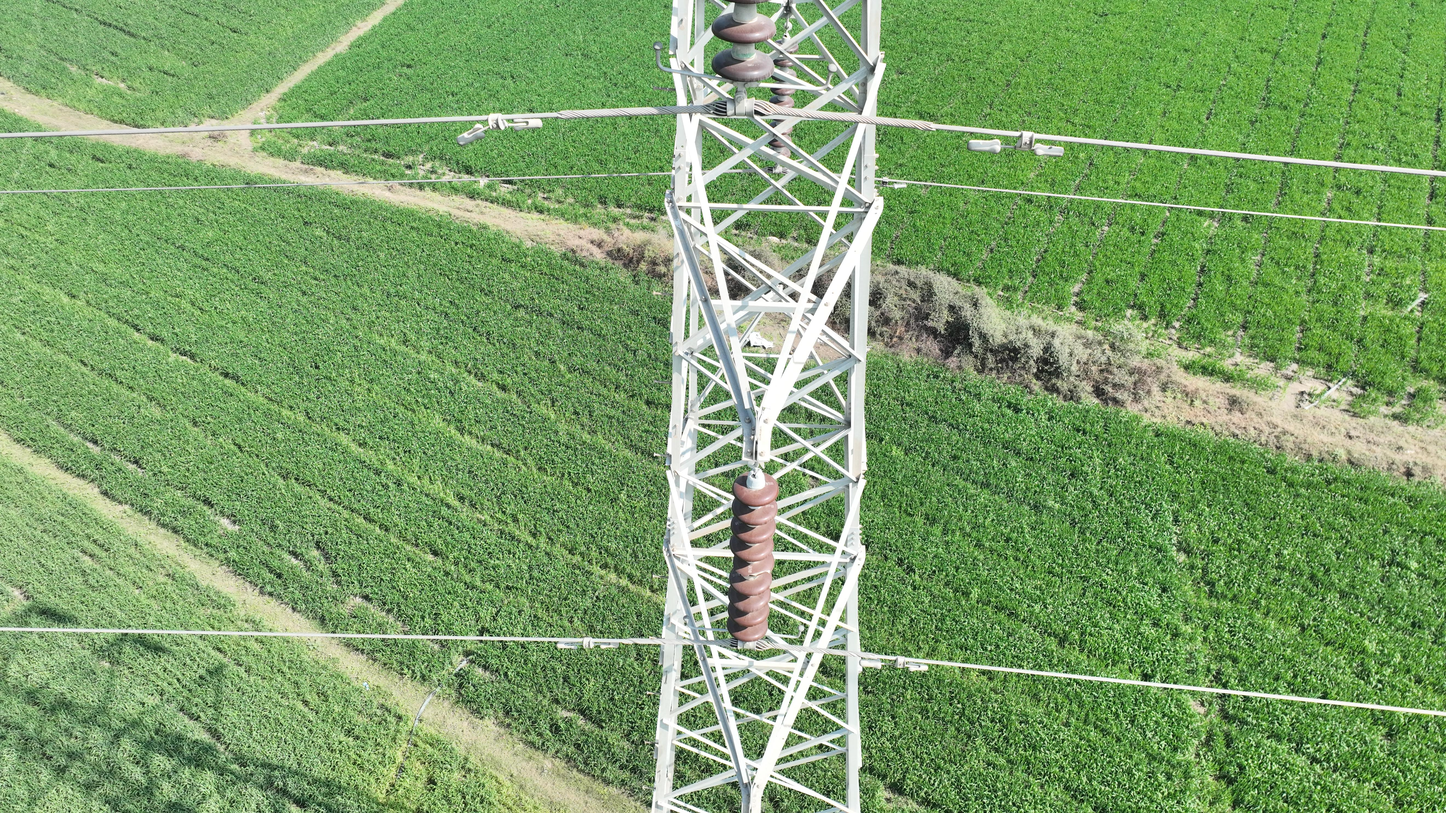broken_insulator: (729, 559, 775, 584)
